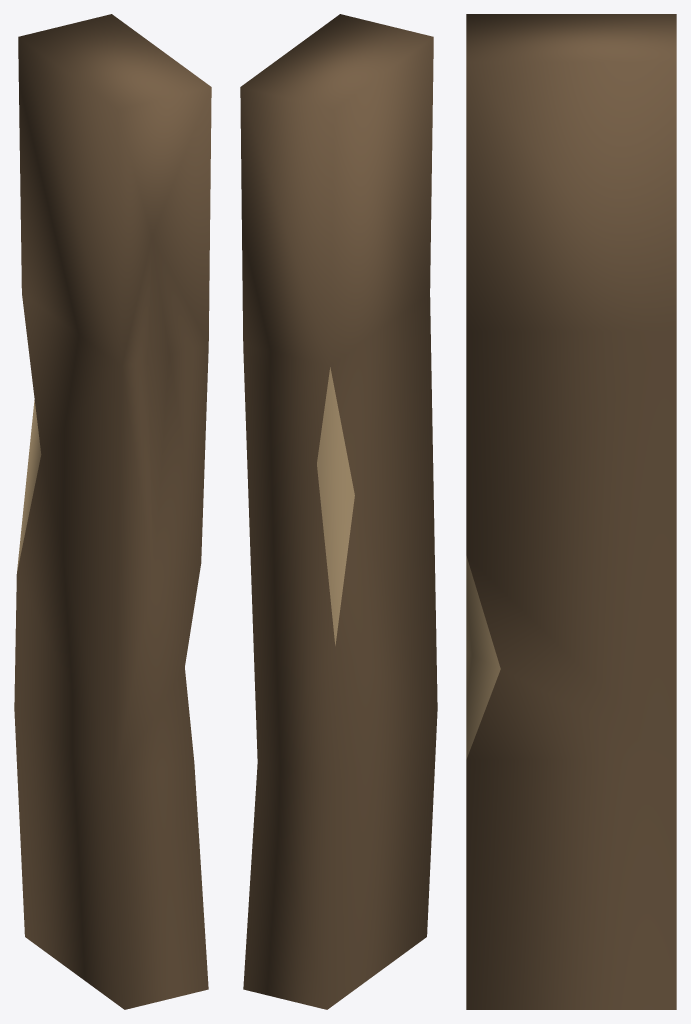
The model's file is rpgpp_av_wall_connector_between_01_3m.gltf.
3 views of the same model, side by side, from view 1: azimuth 30°, elevation 25°; view 2: azimuth 150°, elevation 25°; view 3: azimuth 270°, elevation 25° (orthographic). The views are drawn at different scales.
Parts seen in each view (by area): view 1: rpgpp_av_wall_connector_between_01_3m; view 2: rpgpp_av_wall_connector_between_01_3m; view 3: rpgpp_av_wall_connector_between_01_3m.
Boxes of the visible parts, x1,y1,x2,y2 form: rpgpp_av_wall_connector_between_01_3m: (14, 14, 211, 1009); rpgpp_av_wall_connector_between_01_3m: (240, 14, 437, 1009); rpgpp_av_wall_connector_between_01_3m: (466, 14, 676, 1009).
Bounding box in the file's own units: 0.00339 × 0.03 × 0.00602.
Materials: 1 (1 with a texture image).
